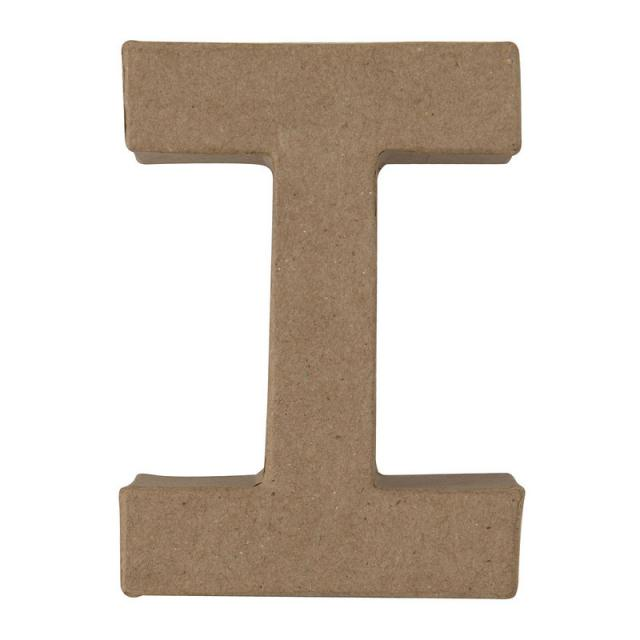I: (99, 13, 572, 616)
